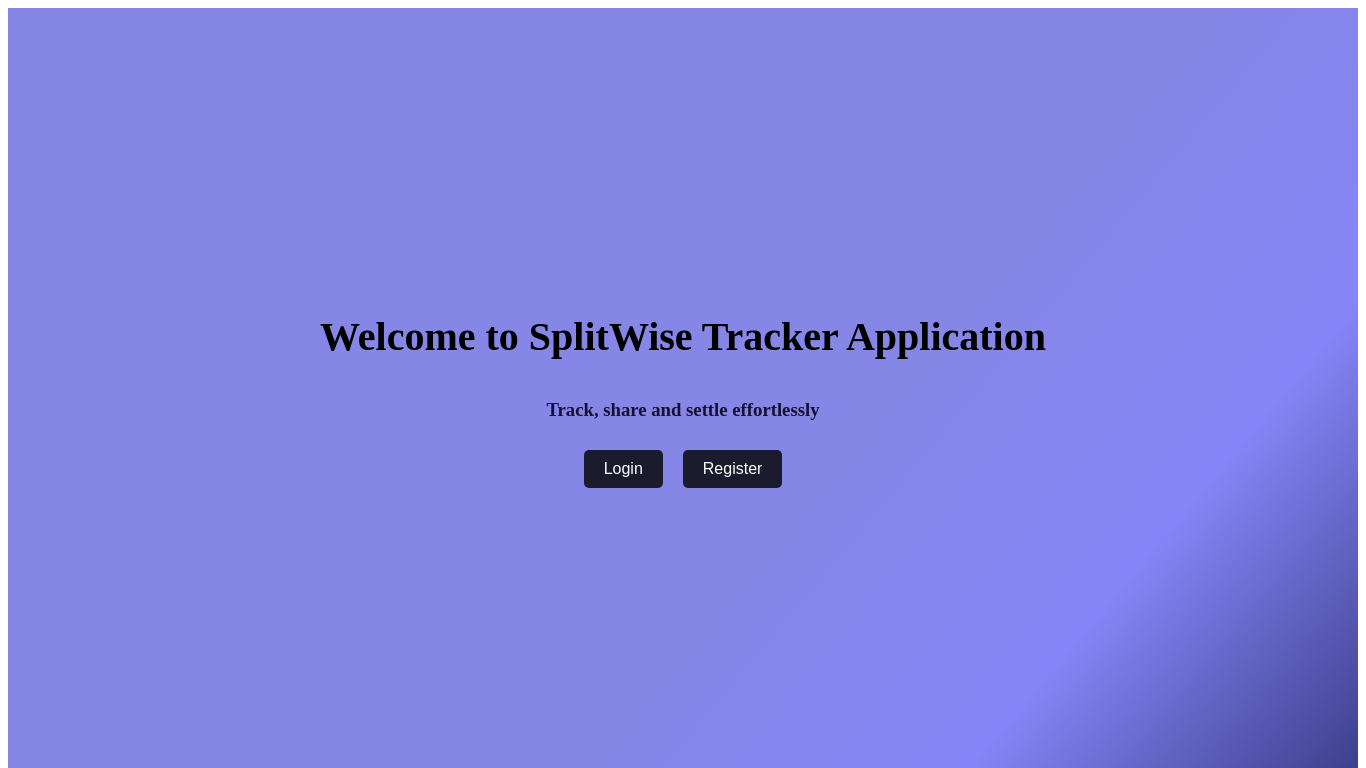
Tests related to WelcomePage › should navigate to register page when register button is clicked
Step 1. Click the button "Register" → (733, 469), box [683, 450, 782, 488]
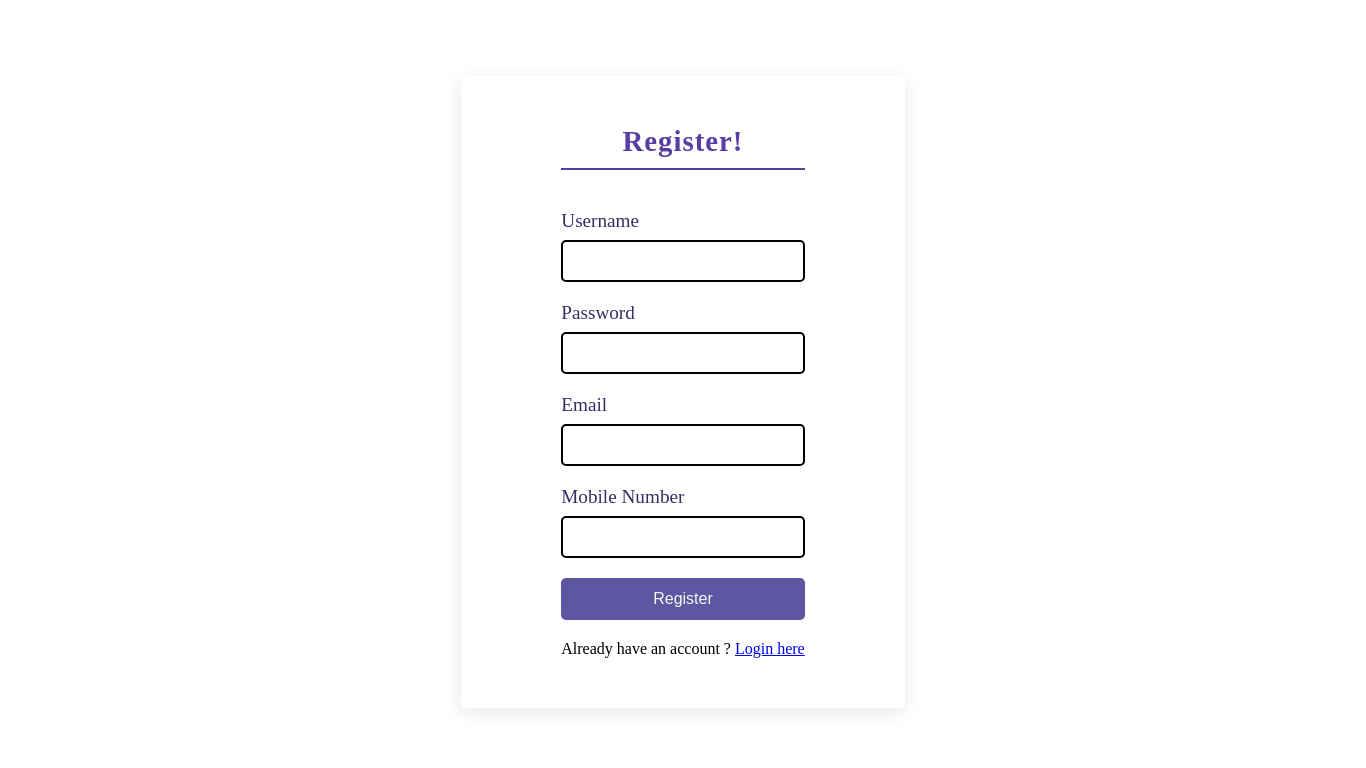
Expected: the text "Register!" is shown, [561, 115, 805, 170]
